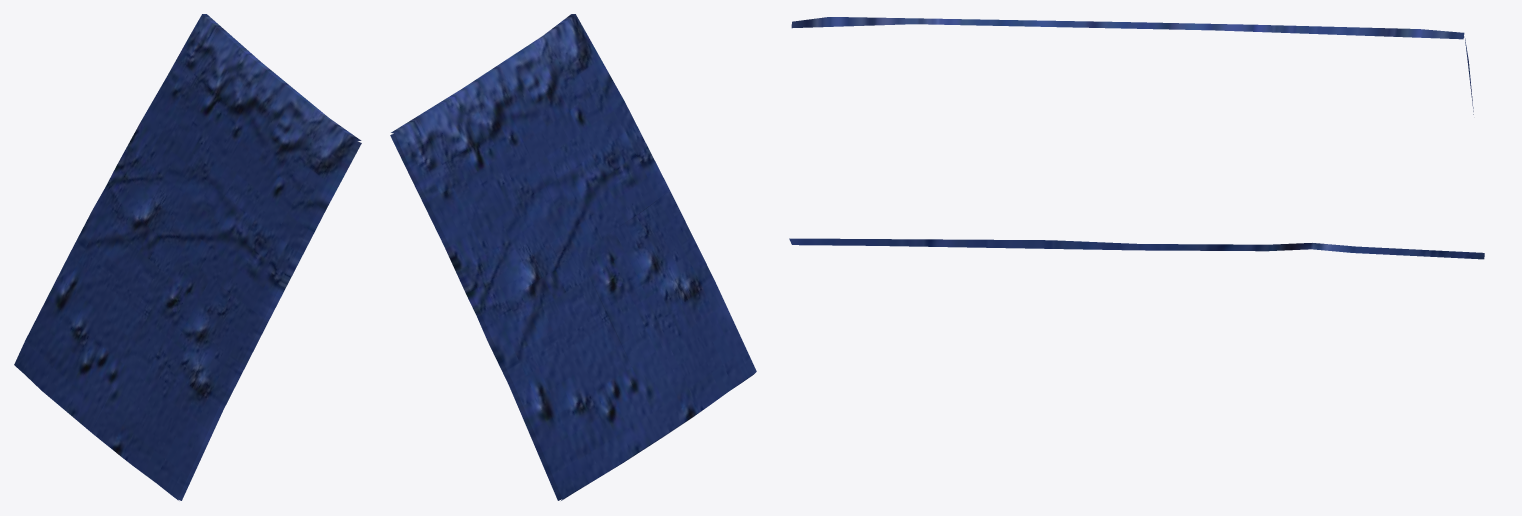
3 views of the same model, side by side, from view 1: azimuth 30°, elevation 25°; view 2: azimuth 150°, elevation 25°; view 3: azimuth 270°, elevation 25° (orthographic). The views are drawn at different scales.
Size of the model in its own units: 353949 by 545317 by 559033.
1 material, 1 textured.
